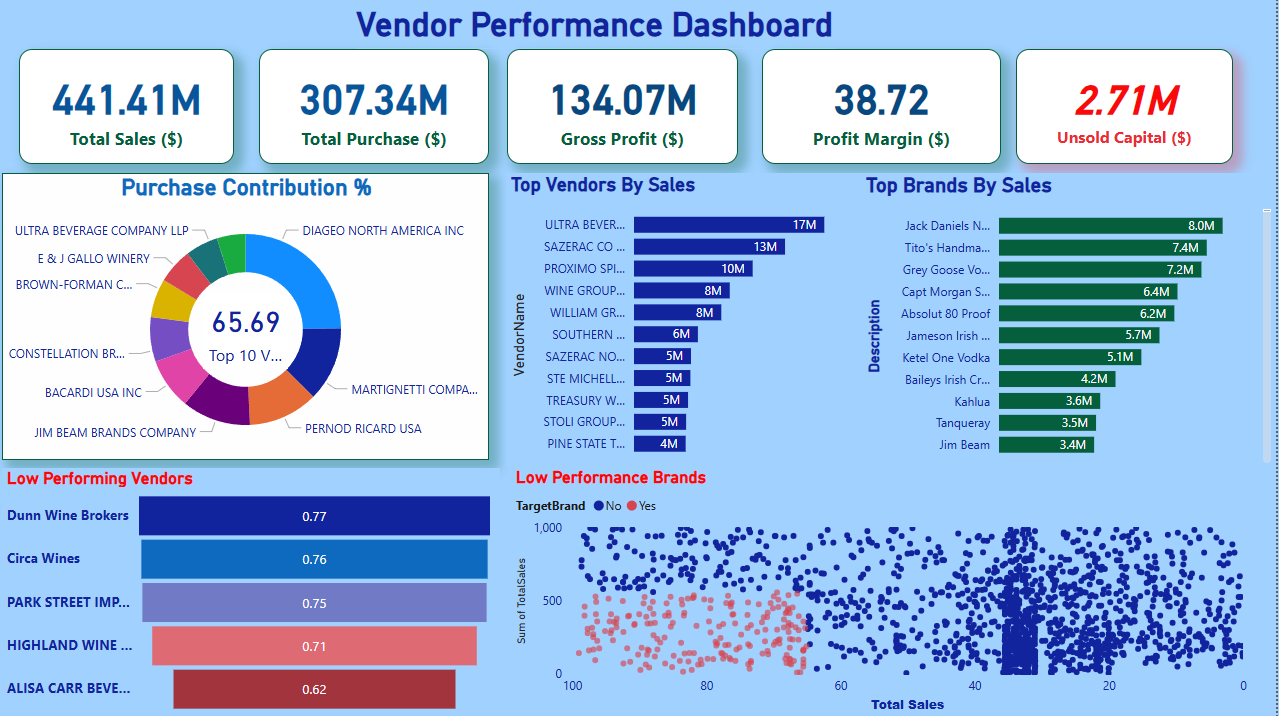

What the dashboard file says about the page in this screenshot:
{"tool":"powerbi","page":{"name":"Page 1","canvas":[1280,720],"ordinal":0},"visuals":[{"type":"card","fields":{"Values":["Sum(vendor_sales_summary (2).TotalSalesDollars)"]},"box":[23,51,214.8,114.9],"z":0},{"type":"card","fields":{"Values":["Sum(vendor_sales_summary (2).TotalPurchaseDollars)"]},"box":[262.8,51,229.8,114.9],"z":1000},{"type":"card","fields":{"Values":["Sum(vendor_sales_summary (2).GrossProfit)"]},"box":[510.6,51,231.8,114.9],"z":2000},{"type":"card","fields":{"Values":["Avg(vendor_sales_summary (2).ProfitMargin)"]},"box":[766.4,51,238.8,114.9],"z":3000},{"type":"card","fields":{"Values":["Sum(vendor_sales_summary (2).UnsoldCapital)"]},"box":[1020.2,51,216.8,114.9],"z":4000},{"type":"donutChart","title":"Purchase Contribution % ","fields":{"Y":["Sum(PurchaseContribution.PurchaseContribution%)"],"Category":["PurchaseContribution.VendorName"]},"box":[6,174.9,486.6,286.8],"z":5000},{"type":"clusteredBarChart","title":"Top Vendors By Sales","fields":{"Category":["vendor_sales_summary (2).VendorName"],"Y":["Sum(vendor_sales_summary (2).TotalSalesDollars)"]},"box":[510.4,174.6,376.1,294.6],"z":6000},{"type":"clusteredBarChart","title":"Top Brands By Sales","fields":{"Category":["vendor_sales_summary (2).Description"],"Y":["Sum(vendor_sales_summary (2).TotalSalesDollars)"]},"box":[865.3,174.9,414.7,294.8],"z":7000},{"type":"card","fields":{"Values":["PurchaseContribution.Top 10 Contribution %"]},"box":[206.8,293.8,84.9,76.9],"z":8000},{"type":"funnel","title":"Low Performing Vendors","fields":{"Y":["Sum(LowTurnoverVendor.AvgStockTurnOver)"],"Category":["LowTurnoverVendor.VendorName"]},"box":[6,469.6,497.6,250.8],"z":9000},{"type":"scatterChart","title":"Low Performance Brands","fields":{"X":["Sum(BrandPerformance.AvgProfitMargin)"],"Category":["BrandPerformance.Description"],"Y":["Sum(BrandPerformance.TotalSales)"],"Series":["BrandPerformance.TargetBrand"]},"box":[514.9,469.3,740.6,250.7],"z":10000},{"type":"shape","title":"Vendor Performance Dashboard","box":[359.7,7,479.6,44],"z":11000}]}

Visuals, with their boxes in screenshot pixels (x1, y1, x2, y2), scaled from the page's 1280x720 canvas onto the 1279x716 screenshot:
card - Sum(vendor_sales_summary (2).TotalSalesDollars): crop(23, 51, 238, 165)
card - Sum(vendor_sales_summary (2).TotalPurchaseDollars): crop(263, 51, 492, 165)
card - Sum(vendor_sales_summary (2).GrossProfit): crop(510, 51, 742, 165)
card - Avg(vendor_sales_summary (2).ProfitMargin): crop(766, 51, 1004, 165)
card - Sum(vendor_sales_summary (2).UnsoldCapital): crop(1019, 51, 1236, 165)
"Purchase Contribution % " donutChart: crop(6, 174, 492, 459)
"Top Vendors By Sales" clusteredBarChart: crop(510, 174, 886, 467)
"Top Brands By Sales" clusteredBarChart: crop(865, 174, 1278, 467)
card - PurchaseContribution.Top 10 Contribution %: crop(207, 292, 291, 369)
"Low Performing Vendors" funnel: crop(6, 467, 503, 715)
"Low Performance Brands" scatterChart: crop(514, 467, 1255, 715)
"Vendor Performance Dashboard" shape: crop(359, 7, 839, 51)
